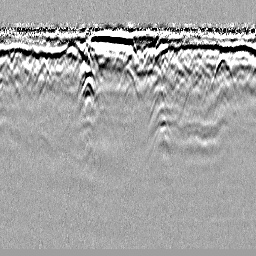cavity: (117, 65, 140, 101)
